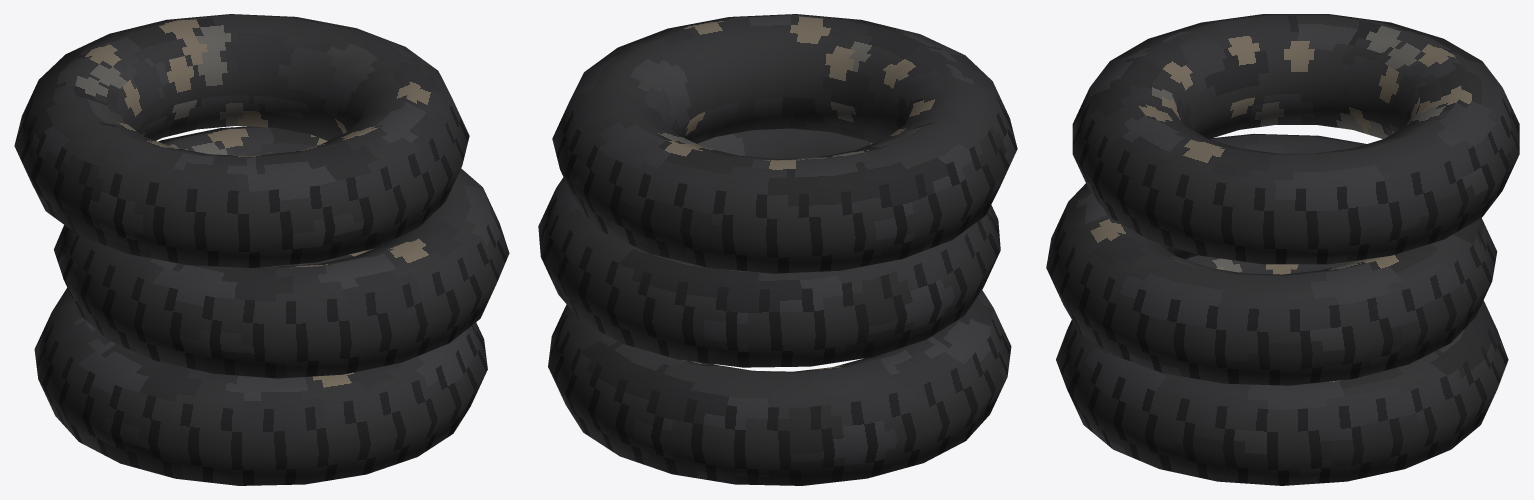
The model's file is tyres.glb.
The picture shows the model from 3 angles, left to right: view 1: azimuth 30°, elevation 25°; view 2: azimuth 150°, elevation 25°; view 3: azimuth 270°, elevation 25°; orthographic projection. The views are drawn at different scales.
Parts seen in each view (by area): view 1: Torus; view 2: Torus; view 3: Torus.
Part boxes in pixels (x1,y1,x2,y2): Torus: (14,14,509,485); Torus: (538,14,1017,485); Torus: (1046,14,1519,485).
Size of the model in its own units: 0.6898 by 0.51 by 0.6798.
1 material, 1 textured.
